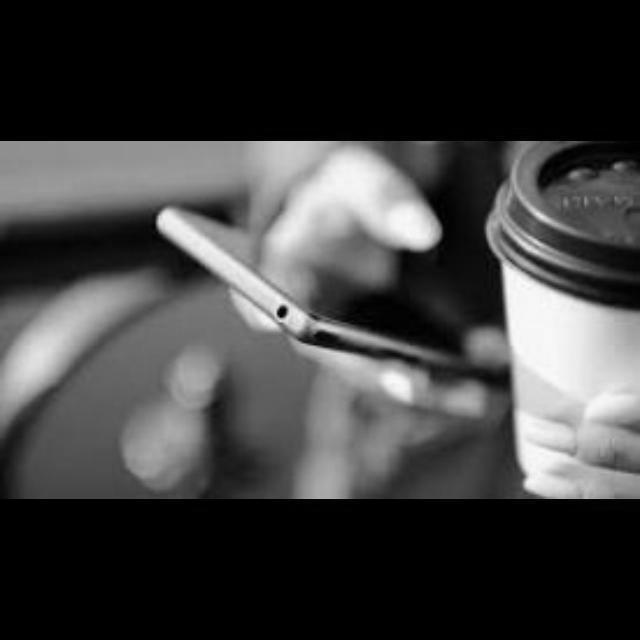fake: (131, 182, 549, 420)
